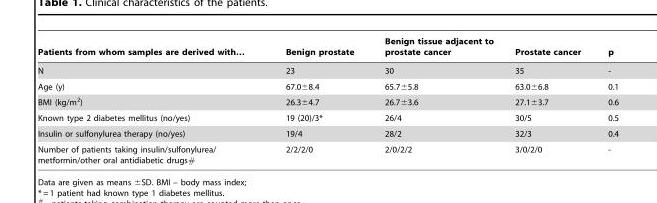table: (37, 36, 618, 164)
table column: (37, 36, 264, 164), (368, 36, 503, 164), (264, 36, 368, 164), (503, 36, 593, 164), (593, 36, 618, 164)
table column header: (37, 36, 618, 61)
table row: (37, 36, 618, 61), (37, 141, 618, 164), (37, 61, 618, 78), (37, 93, 618, 109), (37, 109, 618, 125), (37, 125, 618, 141), (37, 78, 618, 93)
